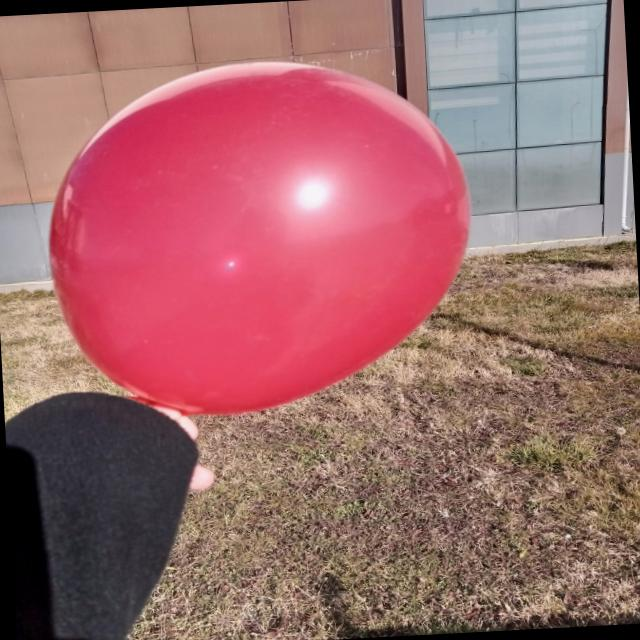balloon: (49, 63, 471, 414)
